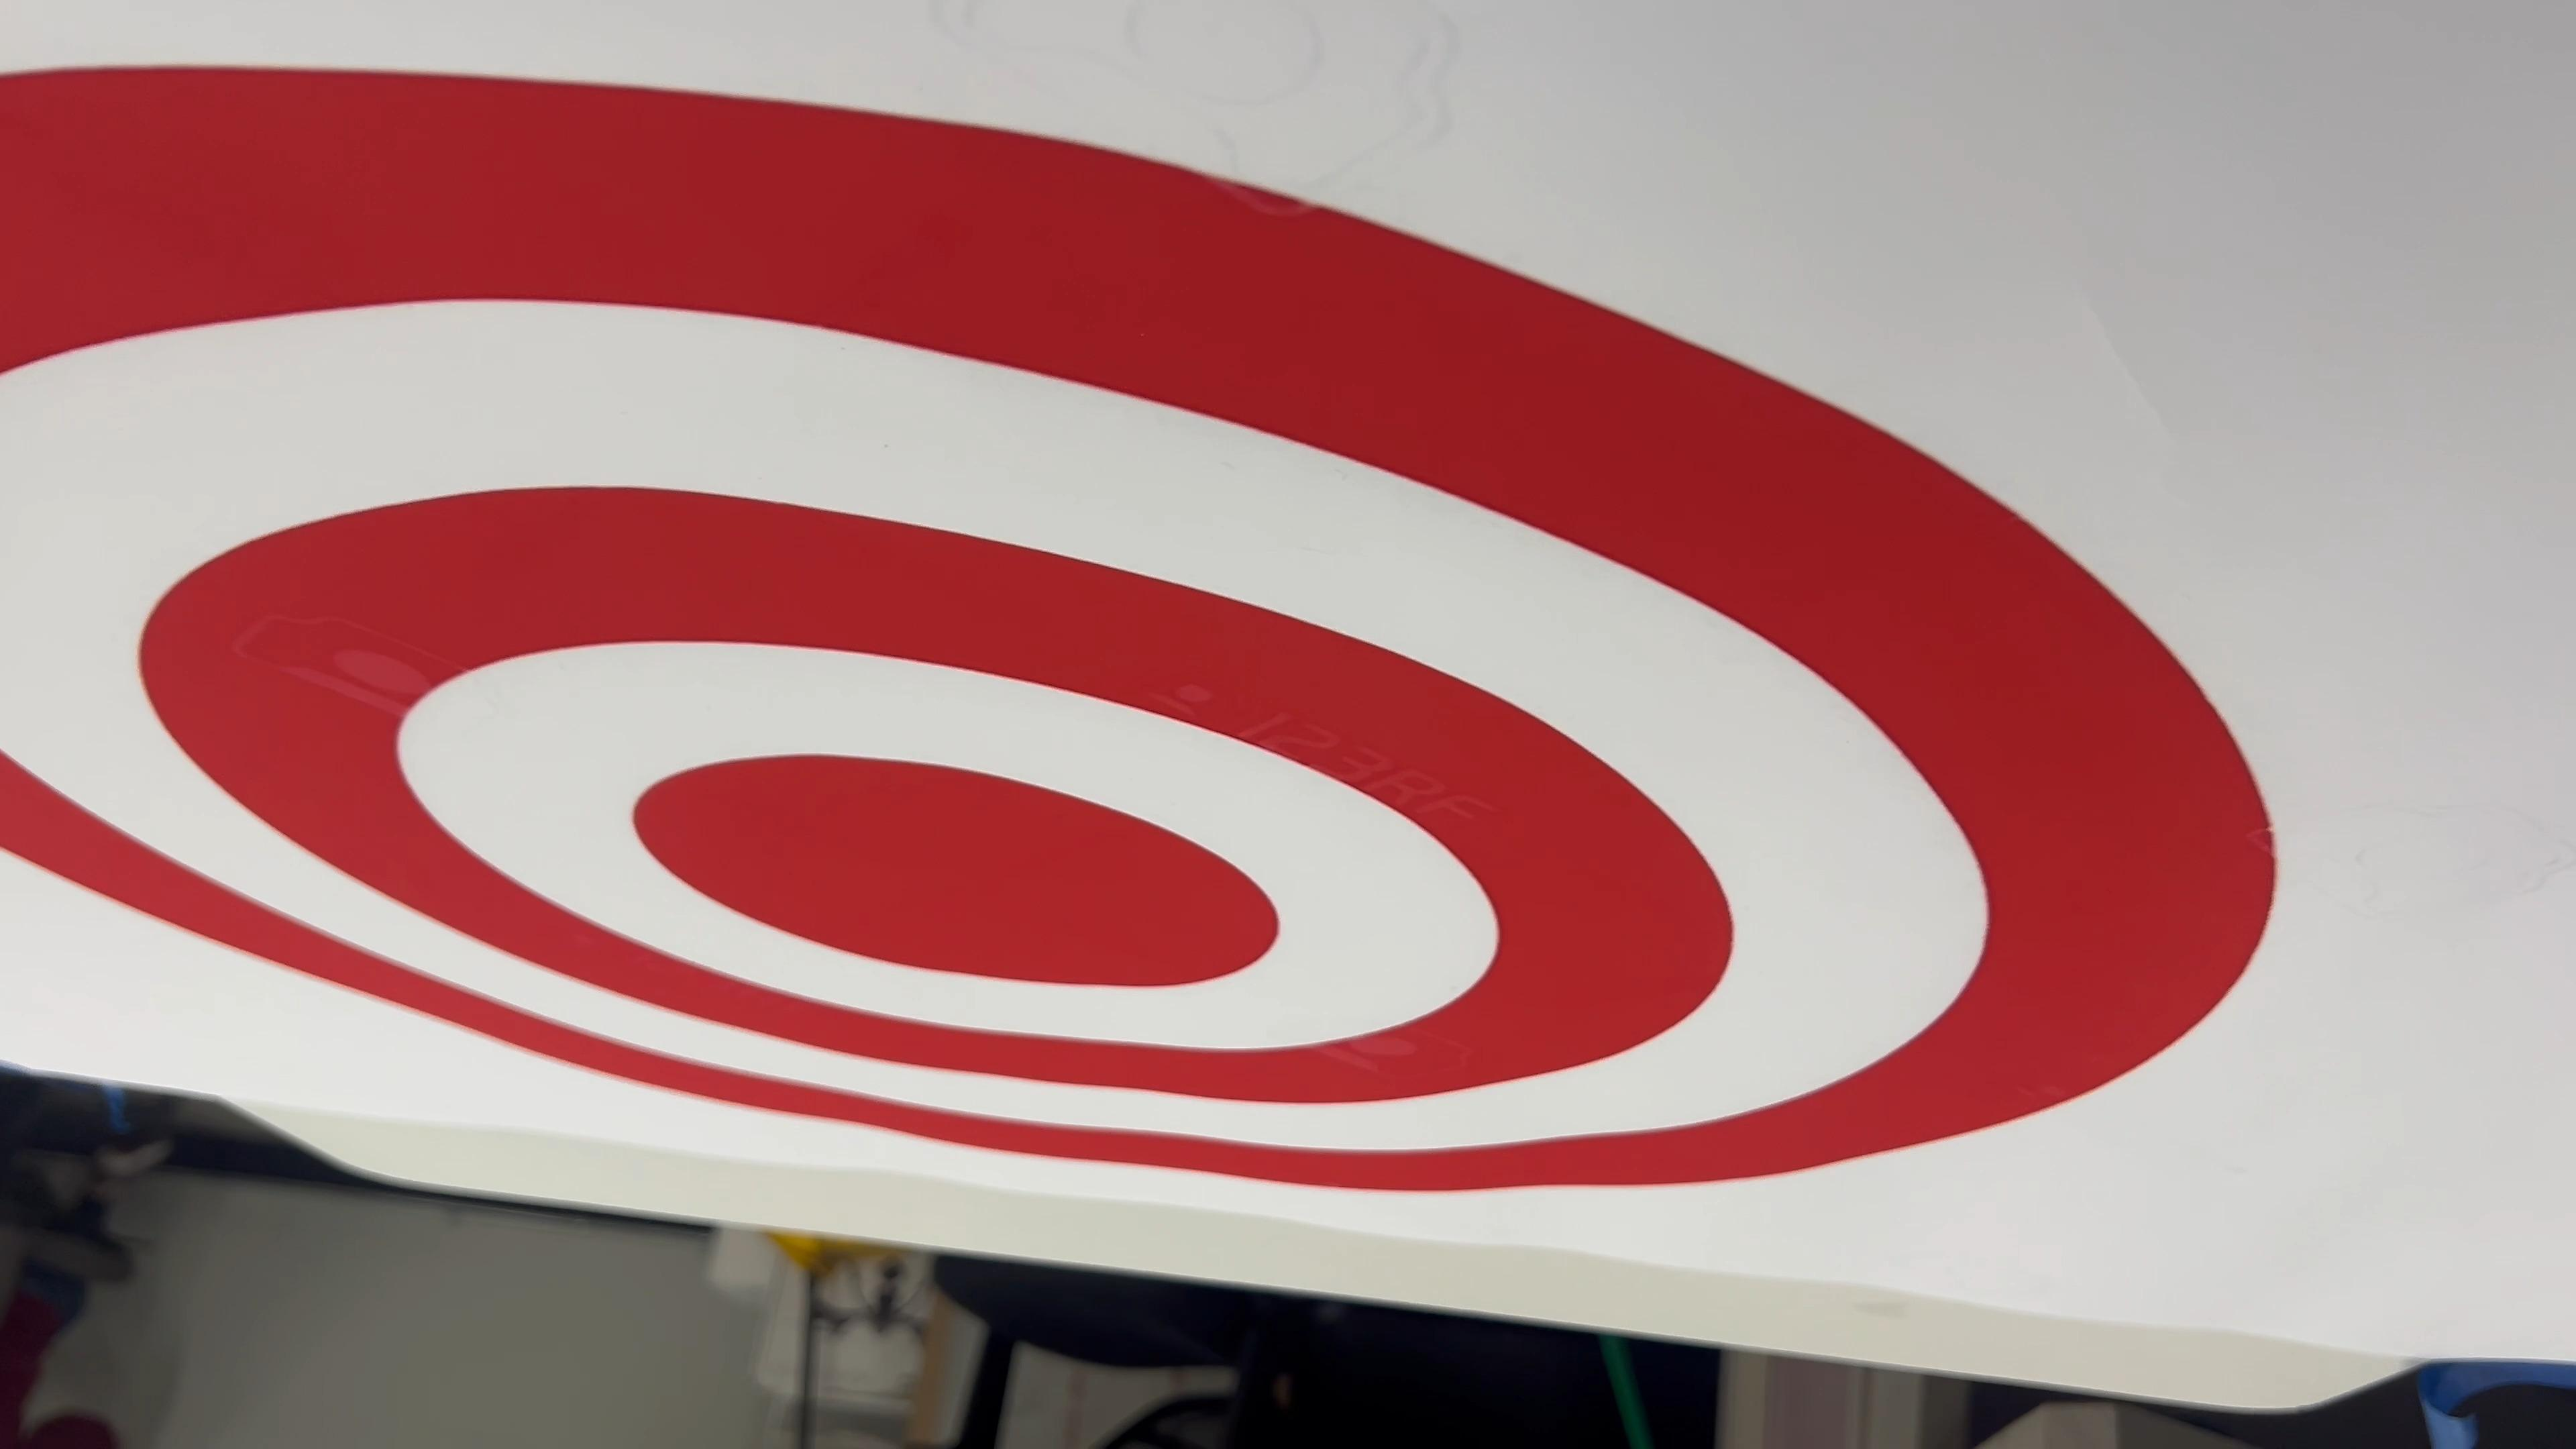target_red: (0, 0, 2358, 1192)
